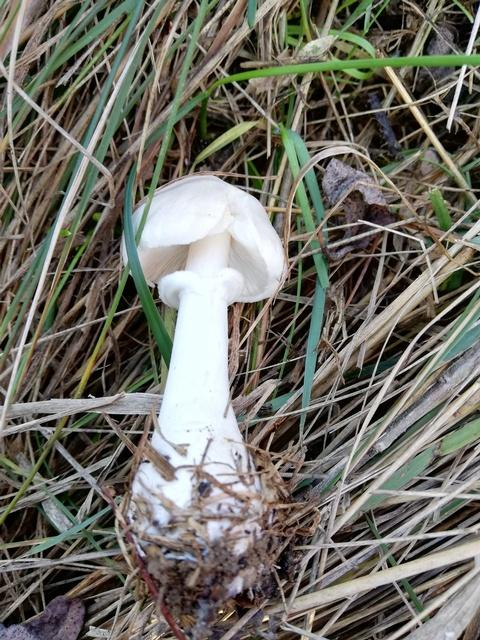poisonous_mushroom: (118, 173, 287, 604)
